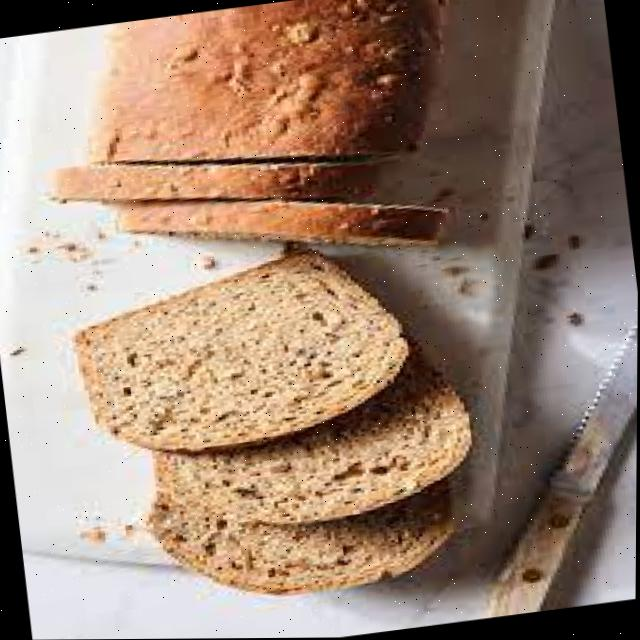Bread: (74, 252, 406, 450), (157, 361, 472, 520), (148, 492, 451, 594)
